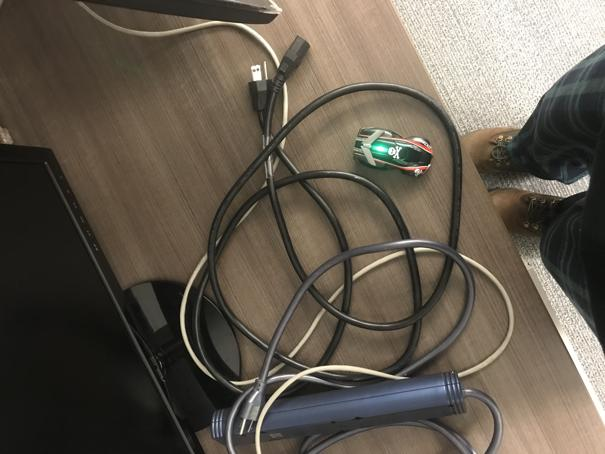Skull: (352, 126, 435, 177)
